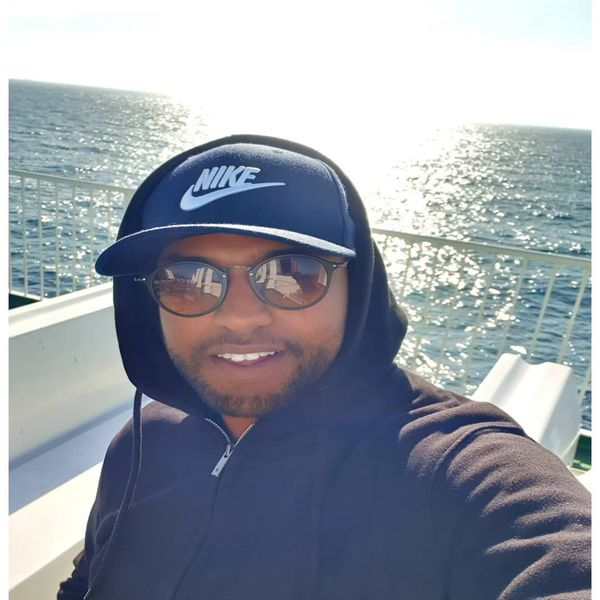nike: (176, 163, 293, 214)
